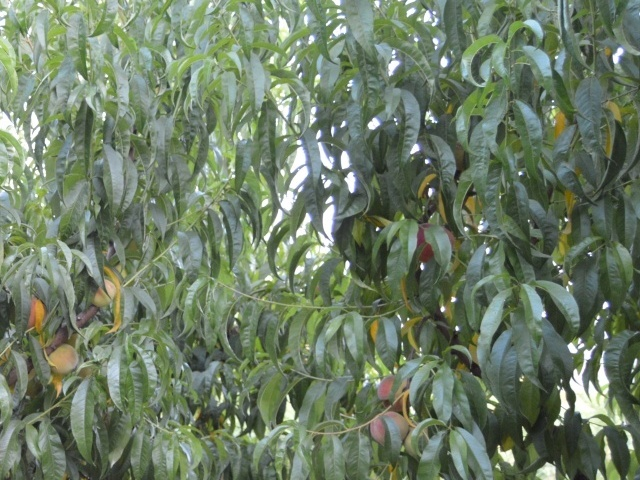peach: (367, 408, 411, 451), (413, 219, 456, 261), (375, 369, 412, 413), (46, 339, 81, 377), (87, 275, 119, 309)
